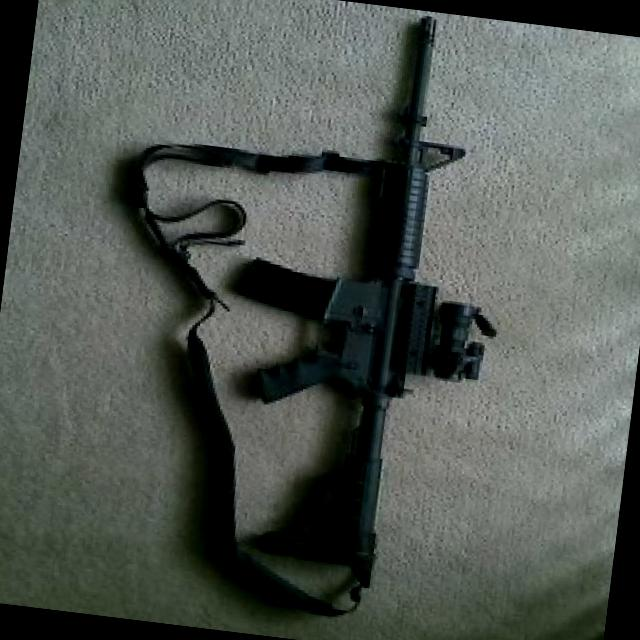long weapon: (111, 0, 504, 624)
